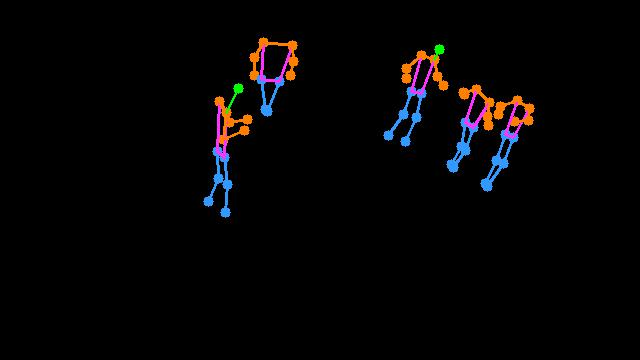normal: (366, 26, 541, 202), (178, 19, 306, 234)
